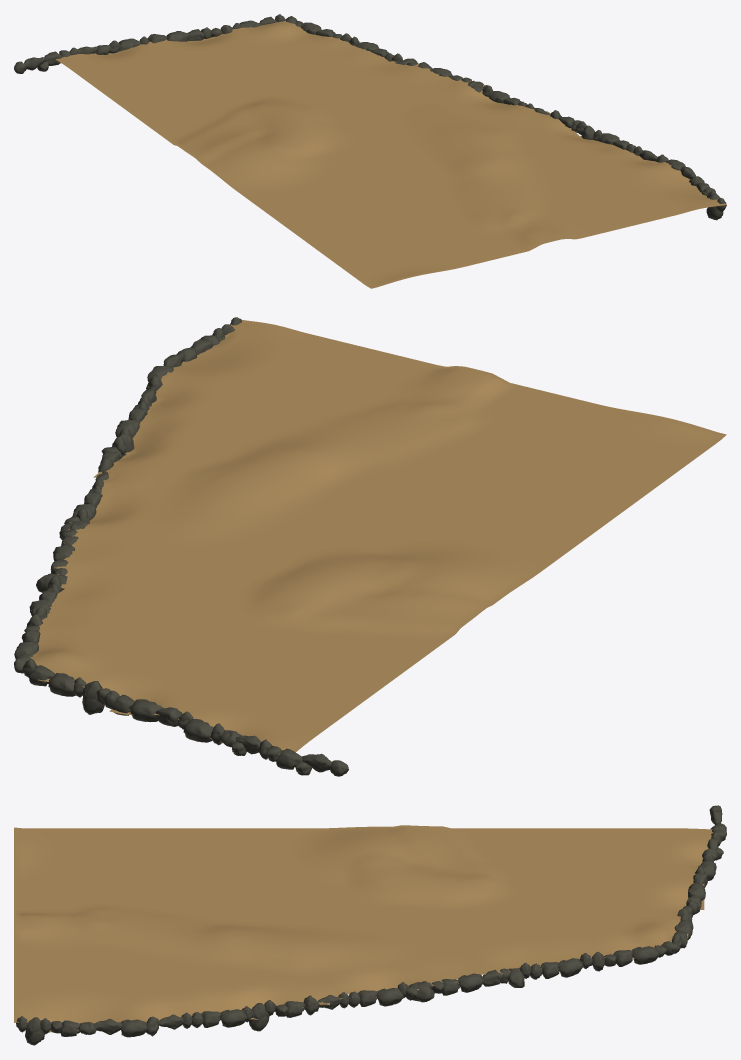
The model's file is ground_06.fbx.
3 renders of one model, top to bottom at view 1: azimuth 30°, elevation 25°; view 2: azimuth 150°, elevation 25°; view 3: azimuth 270°, elevation 25°, orthographic. The views are drawn at different scales.
Visible parts, largest first — view 1: polySurface_ground_06; view 2: polySurface_ground_06; view 3: polySurface_ground_06.
Boxes of the visible parts, bbox=[...] form: polySurface_ground_06: bbox=[14, 14, 726, 288]; polySurface_ground_06: bbox=[14, 317, 726, 776]; polySurface_ground_06: bbox=[14, 805, 726, 1045].
Size of the model in its own units: 383 by 26.64 by 524.
